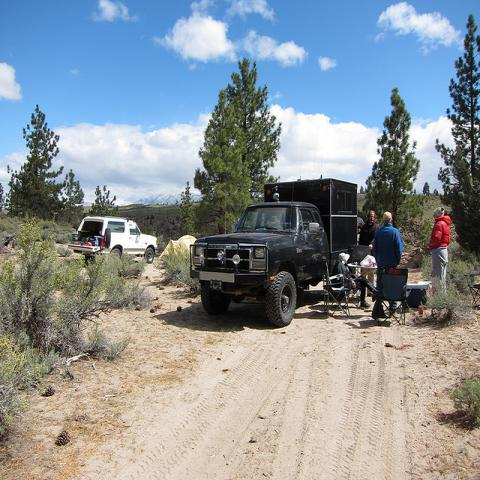car: (68, 216, 157, 264)
truck: (189, 181, 358, 329), (65, 217, 158, 265)
